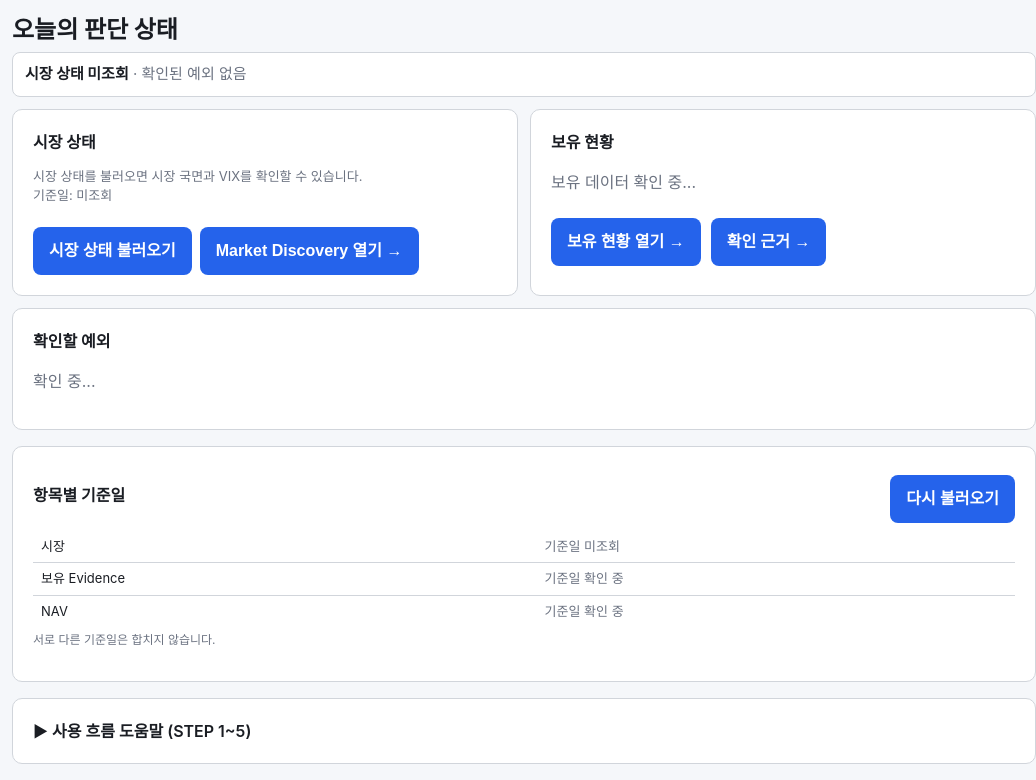
Scenario: DashboardView — VIX stale · 예외 · 일부 실패 › market status=invalid 는 예외로 잡히고 '예외 없음' 과 공존하지 않는다 (A-1(2))
Click the button "시장 상태 불러오기".
click(112, 250)  # box [33,226,192,274]
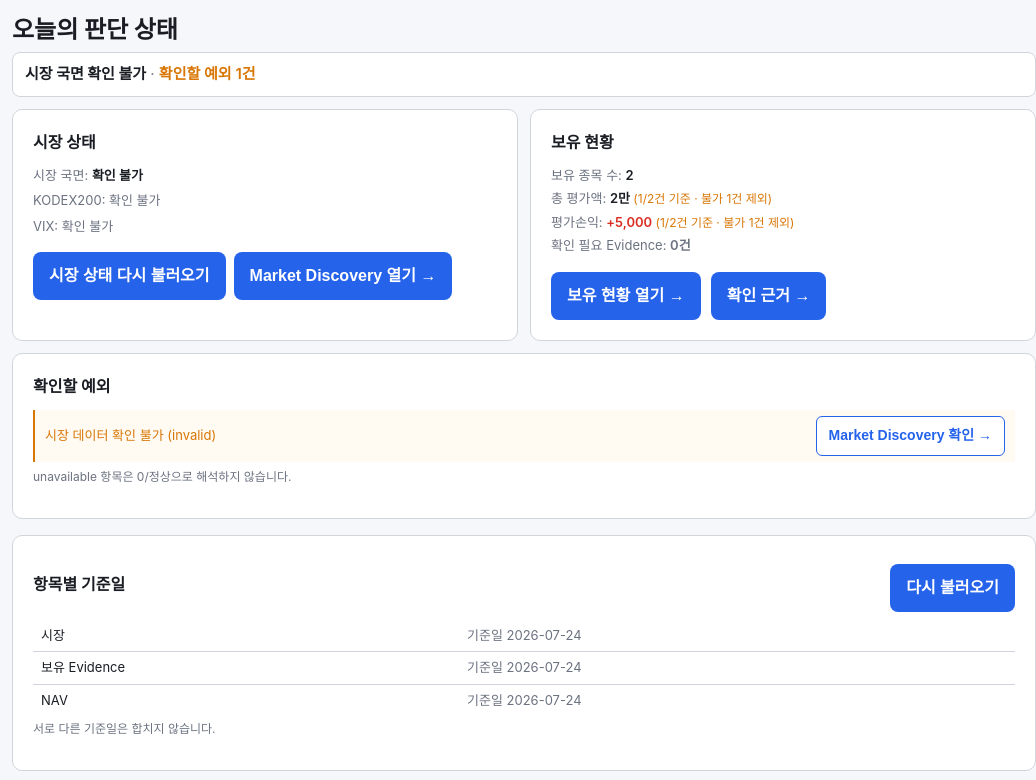
expect the text "시장 데이터 확인 불가 (invalid)" is shown: met, box [45,426,216,445]
expect the text "확인된 예외 없음" is gone: met
